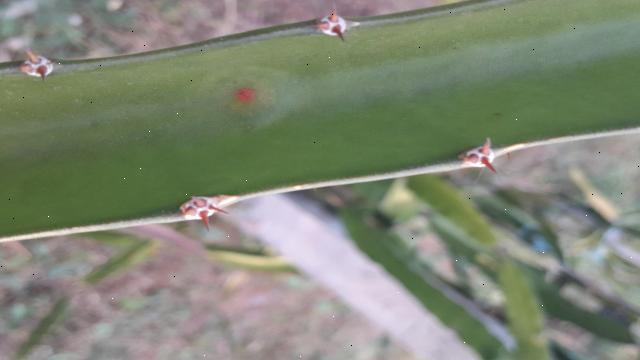stemcanker: (216, 79, 278, 120)
